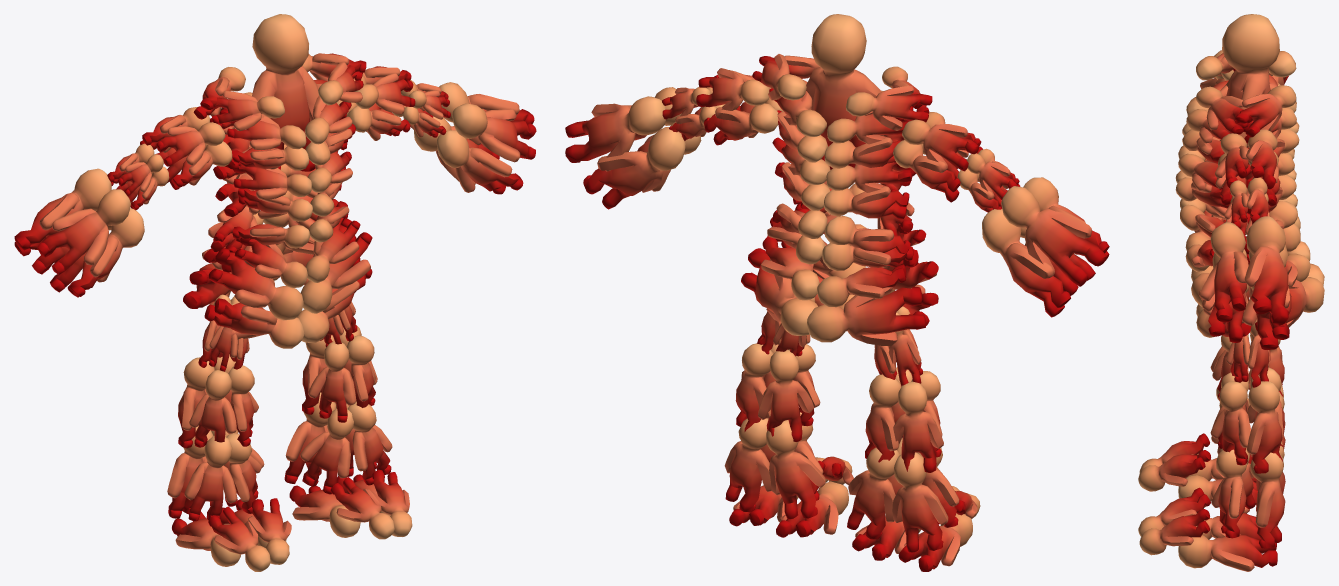
File: giant.fbx
The picture shows the model from 3 angles, left to right: view 1: azimuth 30°, elevation 25°; view 2: azimuth 150°, elevation 25°; view 3: azimuth 270°, elevation 25°; orthographic projection. The views are drawn at different scales.
Visible parts, largest first — view 1: giant, left_arm, body.019, right_arm.011, right_arm, left_arm.009, left_leg.005, body.020, right_leg.005, right_leg.011, left_leg.010, body (+47 smaller); view 2: giant, left_arm.009, body.018, right_arm.010, right_arm.009, left_arm.010, left_leg.003, body.006, right_leg.004, right_leg.003, left_leg.004, right_leg.009 (+37 smaller); view 3: giant, right_arm.009, right_arm.011, right_leg.002, right_leg.008, right_leg.003, right_leg.010, right_leg, right_leg.006, body.013, left_leg, body.014 (+41 smaller).
Boxes of the visible parts, x1,y1,x2,y2 form: giant: (252, 14, 318, 171); left_arm: (37, 189, 130, 274); body.019: (208, 248, 303, 320); right_arm.011: (452, 103, 536, 162); right_arm: (436, 130, 523, 194); left_arm.009: (14, 168, 111, 256); left_leg.005: (184, 435, 237, 521); body.020: (204, 298, 304, 348); right_leg.005: (300, 408, 353, 494); right_leg.011: (308, 341, 356, 422); left_leg.010: (189, 370, 236, 447); body: (300, 218, 372, 313); giant: (806, 14, 881, 169); left_arm.009: (1001, 186, 1107, 286); body.018: (807, 286, 926, 345); right_arm.010: (583, 127, 685, 209); right_arm.009: (565, 96, 665, 171); left_arm.010: (982, 209, 1070, 317); left_leg.003: (892, 452, 948, 552); body.006: (775, 162, 909, 218); right_leg.004: (766, 420, 825, 519); right_leg.003: (724, 418, 771, 512); left_leg.004: (847, 447, 899, 539); right_leg.009: (758, 350, 813, 441); giant: (1222, 14, 1279, 148); right_arm.009: (1244, 216, 1288, 325); right_arm.011: (1200, 222, 1248, 322); right_leg.002: (1178, 534, 1277, 571); right_leg.008: (1246, 381, 1282, 473); right_leg.003: (1250, 452, 1285, 548); right_leg.010: (1210, 381, 1250, 465); right_leg: (1211, 449, 1247, 538); right_leg.006: (1139, 509, 1210, 555); body.013: (1235, 85, 1296, 137); left_leg: (1138, 450, 1210, 491); body.014: (1196, 86, 1252, 134).
Size of the model in its own units: 8.33 by 7.82 by 2.59.
